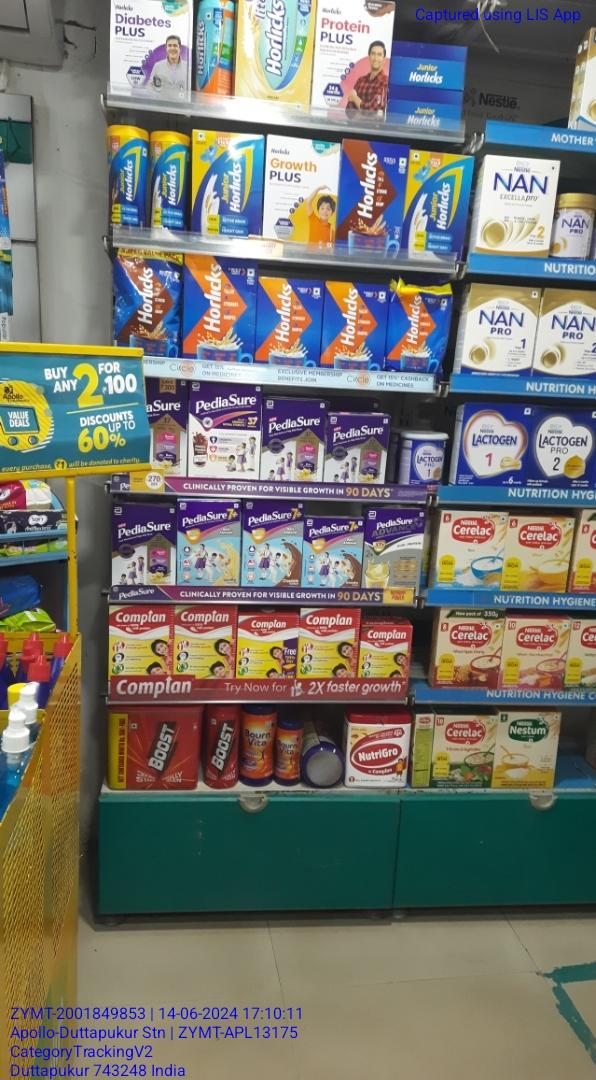BOURN_VITA_200_G_JAR: (277, 722, 303, 786)
BOURN_VITA_500_G_JAR: (240, 705, 275, 787)
COMPLAN_CHOCOLATE_500_GMS_PACK: (359, 626, 411, 680)
COMPLAN_CREAMY_CLASSIC_500_G_PACK: (298, 607, 359, 678), (238, 615, 295, 678)
COMPLAN_KESAR_BADAM_500_GMS_PACK: (174, 604, 235, 679), (110, 605, 173, 675)
HORLICKS_LITE_REGULAR_MALT_500_GM_JAR: (195, 0, 219, 93)
HORLICK_CLASSIC_MALT_500_G_PACK: (323, 280, 386, 371), (257, 276, 319, 366)
HORLICK_CLASSIC_MALT_750_G_POUCH: (390, 283, 451, 373)
PEDIASURE_7_PLUS_CHOCOLATE_400_G_PACK: (243, 501, 300, 588), (302, 517, 362, 587)
